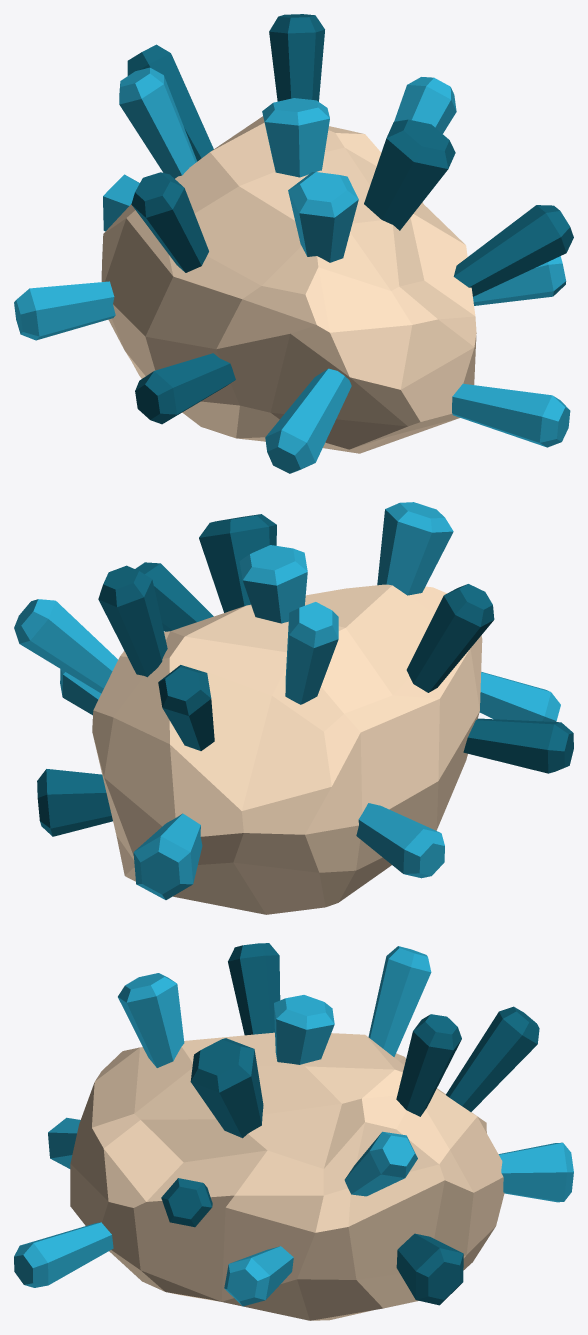
The model's file is MineralNode_03_B.fbx.
3 renders of one model, top to bottom at view 1: azimuth 30°, elevation 25°; view 2: azimuth 150°, elevation 25°; view 3: azimuth 270°, elevation 25°, orthographic. The views are drawn at different scales.
Visible parts, largest first — view 1: MineralNode_03_B; view 2: MineralNode_03_B; view 3: MineralNode_03_B.
Boxes of the visible parts, box(x1,y1,x2,y2) form: MineralNode_03_B: box(14, 14, 573, 473); MineralNode_03_B: box(14, 502, 573, 914); MineralNode_03_B: box(14, 943, 573, 1320).
Bounding box in the file's own units: 115 × 76.7 × 131.
